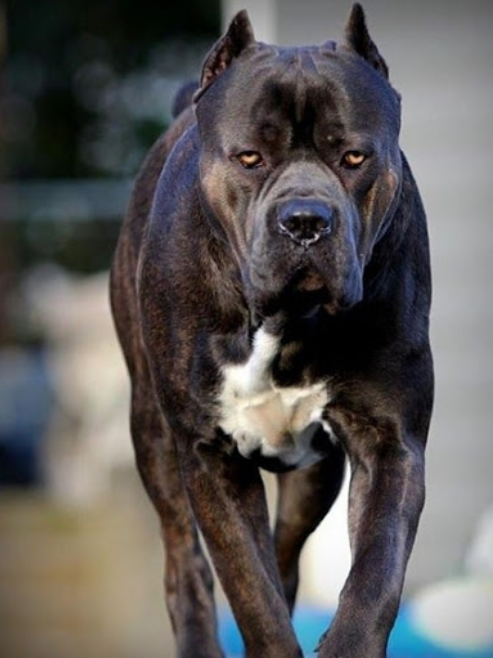dog: (102, 3, 443, 658)
